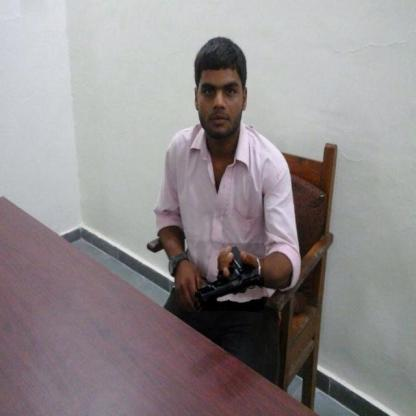handgun: (195, 242, 265, 312)
